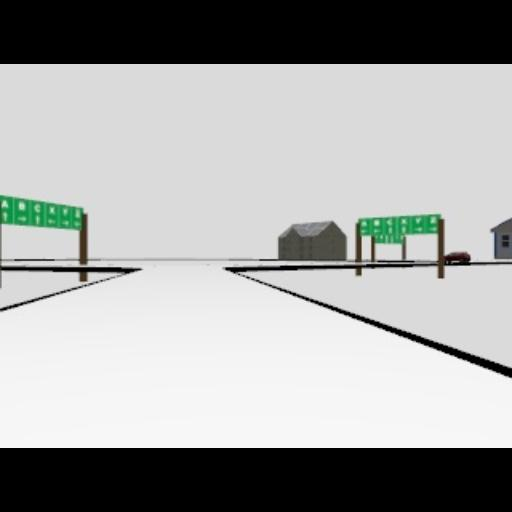A: (0, 198, 8, 208), (360, 219, 366, 227)
B: (18, 200, 24, 210), (373, 218, 379, 226)
C: (34, 203, 40, 213), (386, 218, 392, 226), (400, 224, 404, 234)
Right: (374, 237, 398, 243), (44, 219, 56, 229), (374, 232, 384, 242), (16, 215, 26, 221), (61, 219, 69, 225), (46, 218, 54, 224), (414, 226, 422, 232)
Straight: (34, 214, 40, 224), (2, 211, 6, 221)
X: (387, 220, 393, 234), (48, 205, 54, 213), (400, 218, 406, 224)
Y: (62, 206, 68, 214), (415, 216, 421, 224)
Z: (402, 214, 414, 236), (358, 217, 372, 235), (74, 208, 80, 218), (429, 214, 435, 222), (429, 224, 437, 230), (432, 215, 440, 221), (80, 216, 84, 228), (400, 232, 404, 244)
